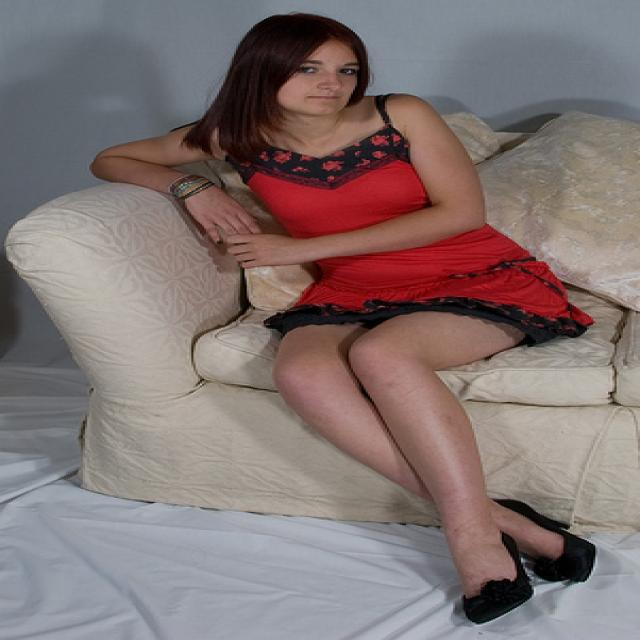person: (107, 13, 622, 634)
sofa: (14, 104, 639, 530)
